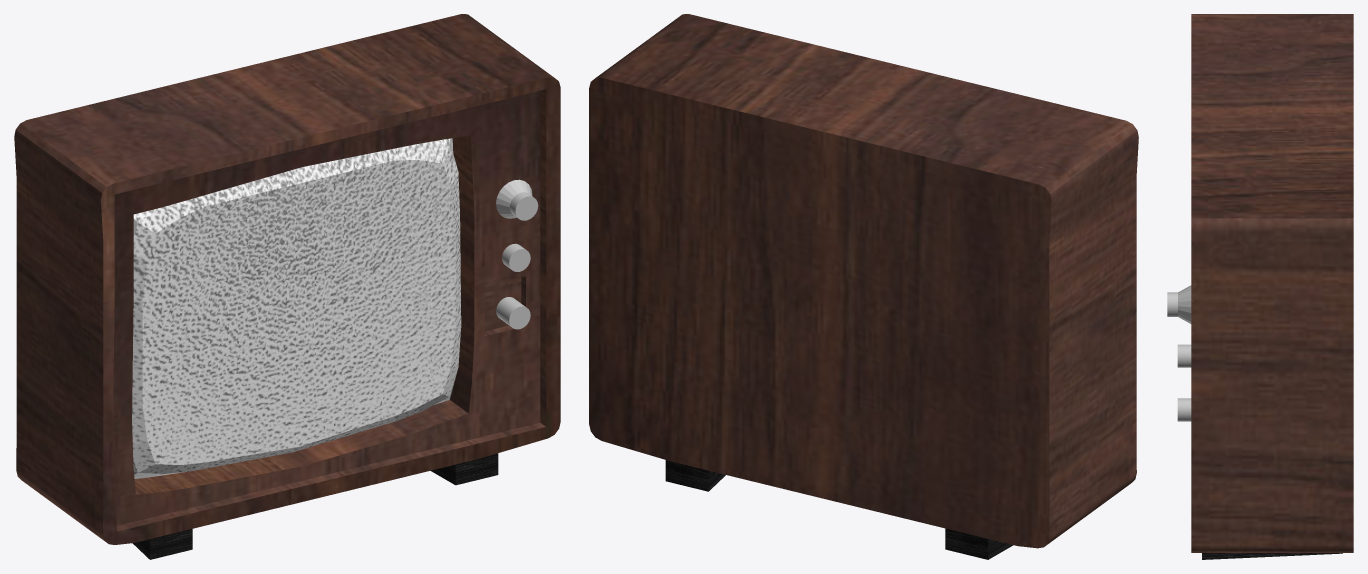
The model's file is tele.fbx.
3 renders of one model, left to right at view 1: azimuth 30°, elevation 25°; view 2: azimuth 150°, elevation 25°; view 3: azimuth 270°, elevation 25°, orthographic. The views are drawn at different scales.
Visible parts, largest first — view 1: pCube1, pCube2, pCylinder1, pCylinder3; view 2: pCube1, pCube2; view 3: pCube1, pCylinder1, pCube2, pCylinder3, pCylinder2.
Boxes of the visible parts, left/top/right/bottom form: pCube1: left=14, top=14, right=560, bottom=544; pCube2: left=132, top=453, right=498, bottom=559; pCylinder1: left=496, top=179, right=538, bottom=220; pCylinder3: left=496, top=297, right=530, bottom=329; pCube1: left=589, top=14, right=1138, bottom=548; pCube2: left=665, top=460, right=1013, bottom=559; pCube1: left=1191, top=14, right=1353, bottom=552; pCylinder1: left=1167, top=285, right=1191, bottom=323; pCube2: left=1202, top=553, right=1342, bottom=559; pCylinder3: left=1177, top=398, right=1191, bottom=421; pCylinder2: left=1177, top=344, right=1191, bottom=367.
Size of the model in its own units: 6.93 by 5.64 by 2.6.
